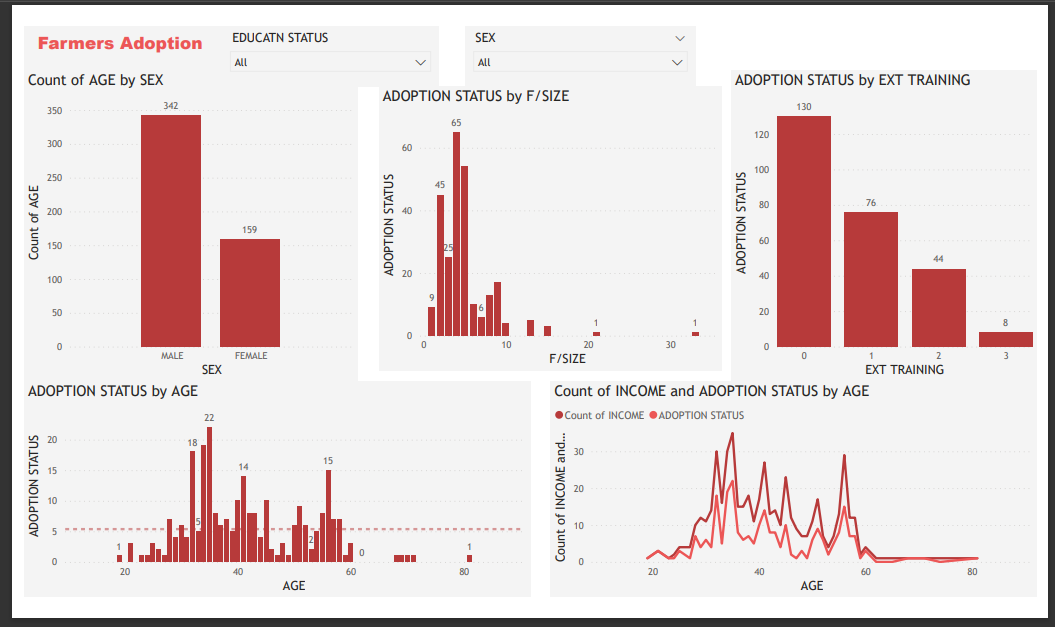

What the dashboard file says about the page in this screenshot:
{"tool":"powerbi","page":{"name":"Page 1","canvas":[1280,720],"ordinal":0},"visuals":[{"type":"clusteredColumnChart","fields":{"Y":["CountNonNull(Farmers Adoption Data Plateau State - Sheet1 (1).AGE)"],"Category":["Farmers Adoption Data Plateau State - Sheet1 (1).SEX"]},"box":[0,55.4,421.6,393.1],"z":0},{"type":"clusteredColumnChart","fields":{"Y":["Sum(Farmers Adoption Data Plateau State - Sheet1 (1).ADOPTION STATUS)"],"Category":["Farmers Adoption Data Plateau State - Sheet1 (1).AGE"]},"box":[0,448.5,640,272.1],"z":1000},{"type":"clusteredColumnChart","fields":{"Y":["Sum(Farmers Adoption Data Plateau State - Sheet1 (1).ADOPTION STATUS)"],"Category":["Farmers Adoption Data Plateau State - Sheet1 (1).EXT TRAINING"]},"box":[893.6,55.4,386.4,393.1],"z":2000},{"type":"lineChart","fields":{"Category":["Farmers Adoption Data Plateau State - Sheet1 (1).AGE"],"Y":["CountNonNull(Farmers Adoption Data Plateau State - Sheet1 (1).INCOME)","Sum(Farmers Adoption Data Plateau State - Sheet1 (1).ADOPTION STATUS)"]},"box":[665.2,448.5,614.8,272.1],"z":3000},{"type":"clusteredColumnChart","fields":{"Category":["Farmers Adoption Data Plateau State - Sheet1 (1).F/SIZE"],"Y":["Sum(Farmers Adoption Data Plateau State - Sheet1 (1).ADOPTION STATUS)"]},"box":[448.5,75.6,433.4,359.5],"z":4000},{"type":"slicer","fields":{"Values":["Farmers Adoption Data Plateau State - Sheet1 (1).SEX"]},"box":[557.7,0,290.6,75.6],"z":5000},{"type":"slicer","fields":{"Values":["Farmers Adoption Data Plateau State - Sheet1 (1).EDUCATN STATUS"]},"box":[250.3,0,273.8,75.6],"z":6000},{"type":"textbox","box":[0,0,250.3,55.4],"z":7000}]}

Visuals, with their boxes on the page's 1280x720 design canvas (x1, y1, x2, y2). These are canvas units, not pixel positions in the 1055x627 screenshot, which may show the page scaled, cropped or inside an application window:
clusteredColumnChart - CountNonNull(Farmers Adoption Data Plateau State - Sheet1 (1).AGE) x Farmers Adoption Data Plateau State - Sheet1 (1).SEX: {"x1": 0, "y1": 55, "x2": 422, "y2": 448}
clusteredColumnChart - Sum(Farmers Adoption Data Plateau State - Sheet1 (1).ADOPTION STATUS) x Farmers Adoption Data Plateau State - Sheet1 (1).AGE: {"x1": 0, "y1": 448, "x2": 640, "y2": 721}
clusteredColumnChart - Sum(Farmers Adoption Data Plateau State - Sheet1 (1).ADOPTION STATUS) x Farmers Adoption Data Plateau State - Sheet1 (1).EXT TRAINING: {"x1": 894, "y1": 55, "x2": 1280, "y2": 448}
lineChart - Farmers Adoption Data Plateau State - Sheet1 (1).AGE x CountNonNull(Farmers Adoption Data Plateau State - Sheet1 (1).INCOME): {"x1": 665, "y1": 448, "x2": 1280, "y2": 721}
clusteredColumnChart - Farmers Adoption Data Plateau State - Sheet1 (1).F/SIZE x Sum(Farmers Adoption Data Plateau State - Sheet1 (1).ADOPTION STATUS): {"x1": 448, "y1": 76, "x2": 882, "y2": 435}
slicer - Farmers Adoption Data Plateau State - Sheet1 (1).SEX: {"x1": 558, "y1": 0, "x2": 848, "y2": 76}
slicer - Farmers Adoption Data Plateau State - Sheet1 (1).EDUCATN STATUS: {"x1": 250, "y1": 0, "x2": 524, "y2": 76}
textbox: {"x1": 0, "y1": 0, "x2": 250, "y2": 55}
